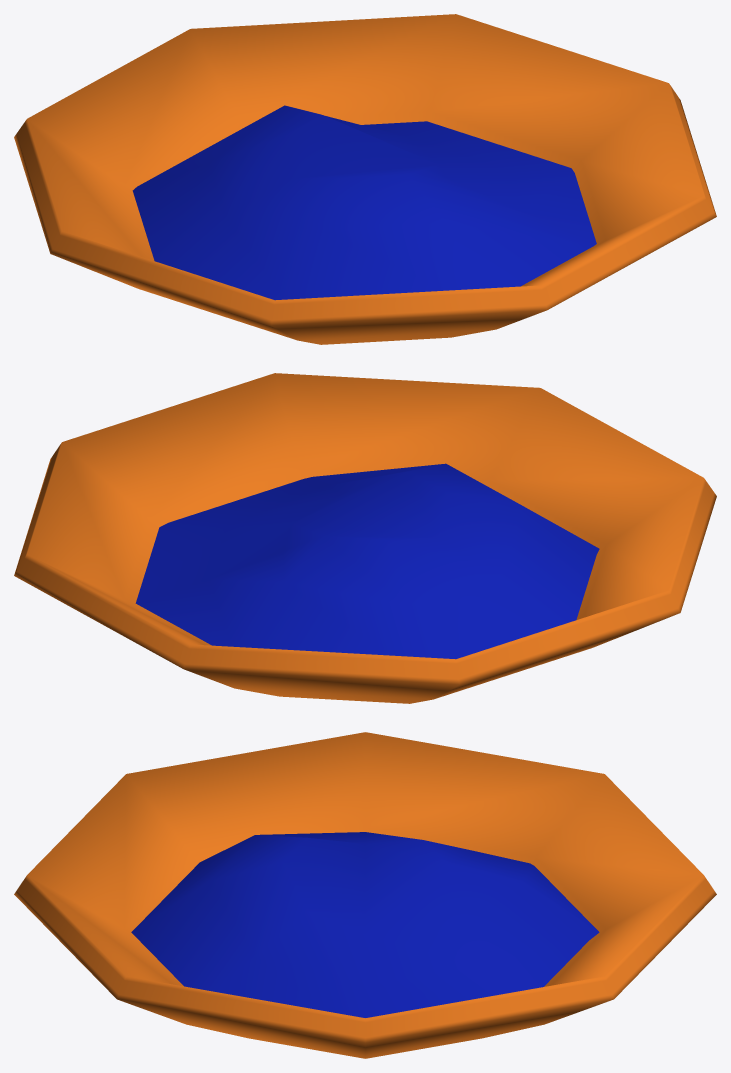
The model's file is dyeBowl.glb.
3 renders of one model, top to bottom at view 1: azimuth 30°, elevation 25°; view 2: azimuth 150°, elevation 25°; view 3: azimuth 270°, elevation 25°, orthographic. The views are drawn at different scales.
Parts seen in each view (by area): view 1: Circle, Circle.001; view 2: Circle, Circle.001; view 3: Circle, Circle.001.
Boxes of the visible parts, x1,y1,x2,y2 form: Circle: (14, 14, 716, 344); Circle.001: (132, 105, 596, 300); Circle: (14, 373, 716, 703); Circle.001: (135, 463, 599, 659); Circle: (14, 732, 716, 1058); Circle.001: (131, 832, 599, 1017).
Size of the model in its own units: 0.1318 by 0.0305 by 0.1318.
